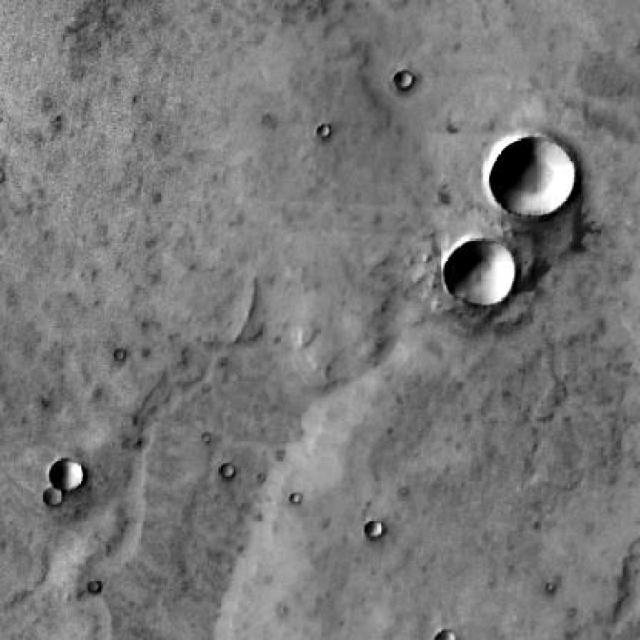crater: (491, 137, 577, 217), (450, 244, 518, 307), (53, 459, 85, 490), (394, 70, 414, 90), (46, 484, 65, 502), (366, 522, 382, 540)
